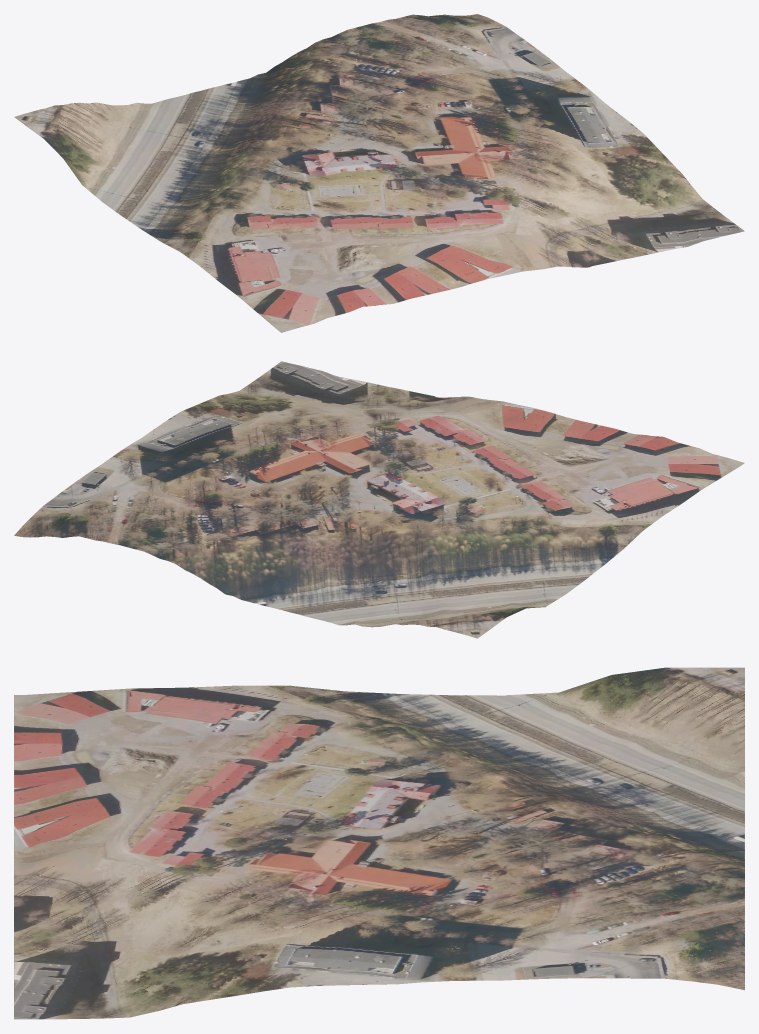
Rendered from CM_Terrain_24492711_6817951.fbx.
The picture shows the model from 3 angles, top to bottom: view 1: azimuth 30°, elevation 25°; view 2: azimuth 150°, elevation 25°; view 3: azimuth 270°, elevation 25°; orthographic projection. The views are drawn at different scales.
Parts seen in each view (by area): view 1: CM_Terrain_24492711_6817951_LOD0; view 2: CM_Terrain_24492711_6817951_LOD0; view 3: CM_Terrain_24492711_6817951_LOD0.
Boxes of the visible parts, x1,y1,x2,y2 form: CM_Terrain_24492711_6817951_LOD0: [14, 14, 744, 332]; CM_Terrain_24492711_6817951_LOD0: [14, 361, 744, 638]; CM_Terrain_24492711_6817951_LOD0: [14, 667, 744, 1019].
Size of what is drawn, in the model's own units: 205 by 16.59 by 205.
